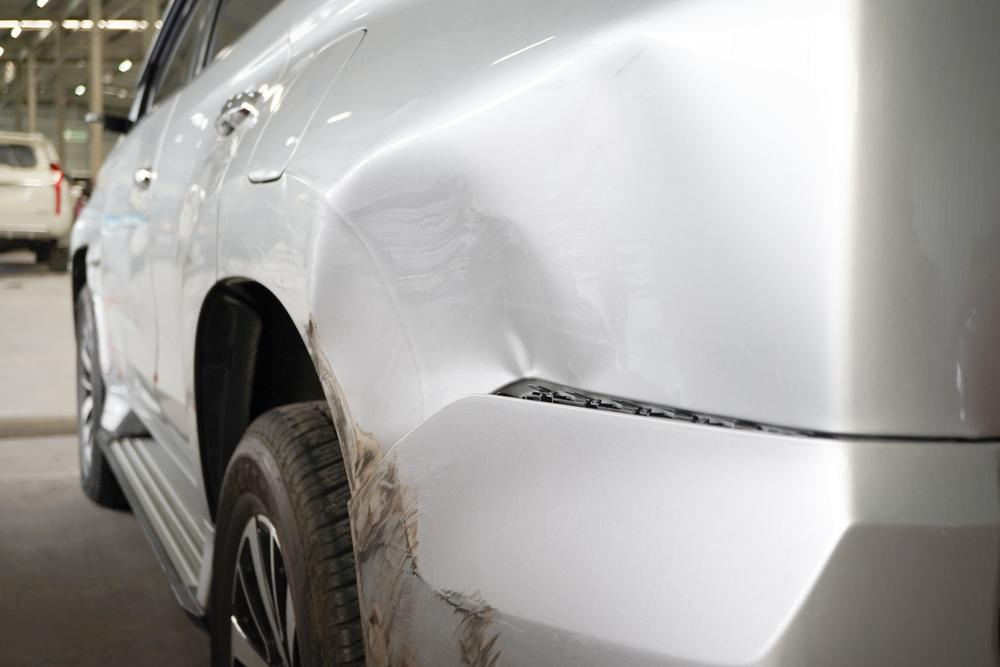dent: (313, 35, 825, 443)
scratch: (346, 451, 510, 667), (311, 343, 384, 478)
